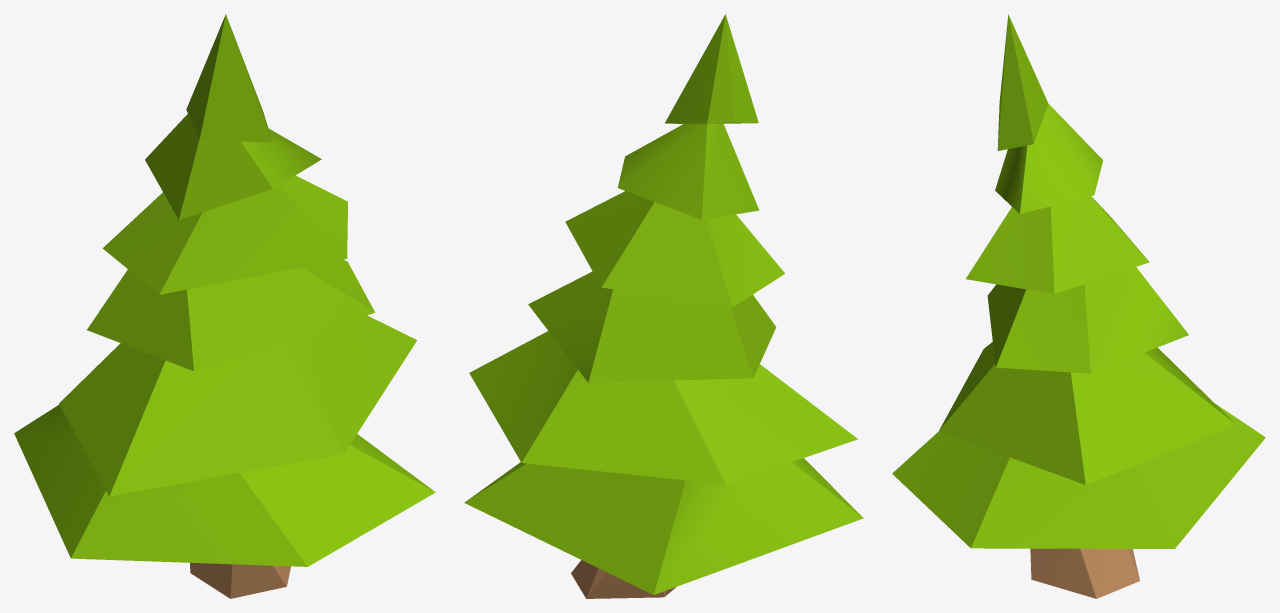
The model's file is pine.FBX.
The picture shows the model from 3 angles, left to right: view 1: azimuth 30°, elevation 25°; view 2: azimuth 150°, elevation 25°; view 3: azimuth 270°, elevation 25°; orthographic projection. The views are drawn at different scales.
Parts seen in each view (by area): view 1: Tree_Pine_04; view 2: Tree_Pine_04; view 3: Tree_Pine_04.
Boxes of the visible parts, left/top/right/bottom form: Tree_Pine_04: left=14, top=14, right=435, bottom=598; Tree_Pine_04: left=464, top=14, right=863, bottom=598; Tree_Pine_04: left=892, top=14, right=1265, bottom=598.
Bounding box in the file's own units: 111 × 164 × 104.
